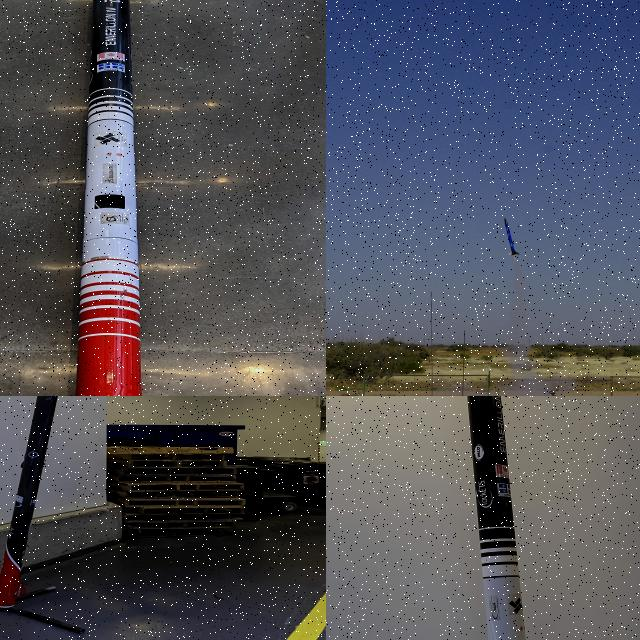Rocket: (75, 0, 143, 396), (466, 396, 527, 640), (0, 396, 58, 608), (503, 217, 520, 256)
